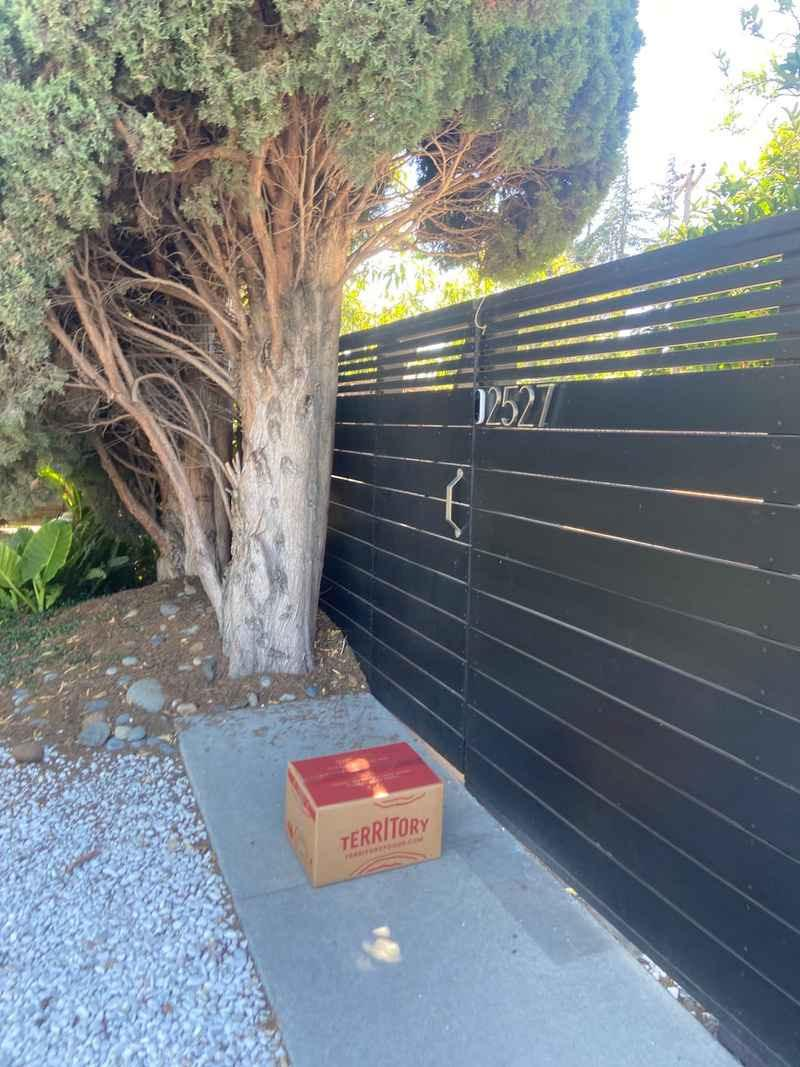package: (281, 741, 446, 888)
